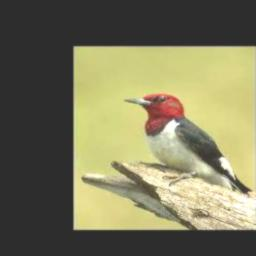Woodpecker: (123, 93, 252, 195)
